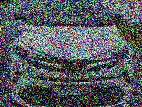car: (9, 0, 133, 107)
